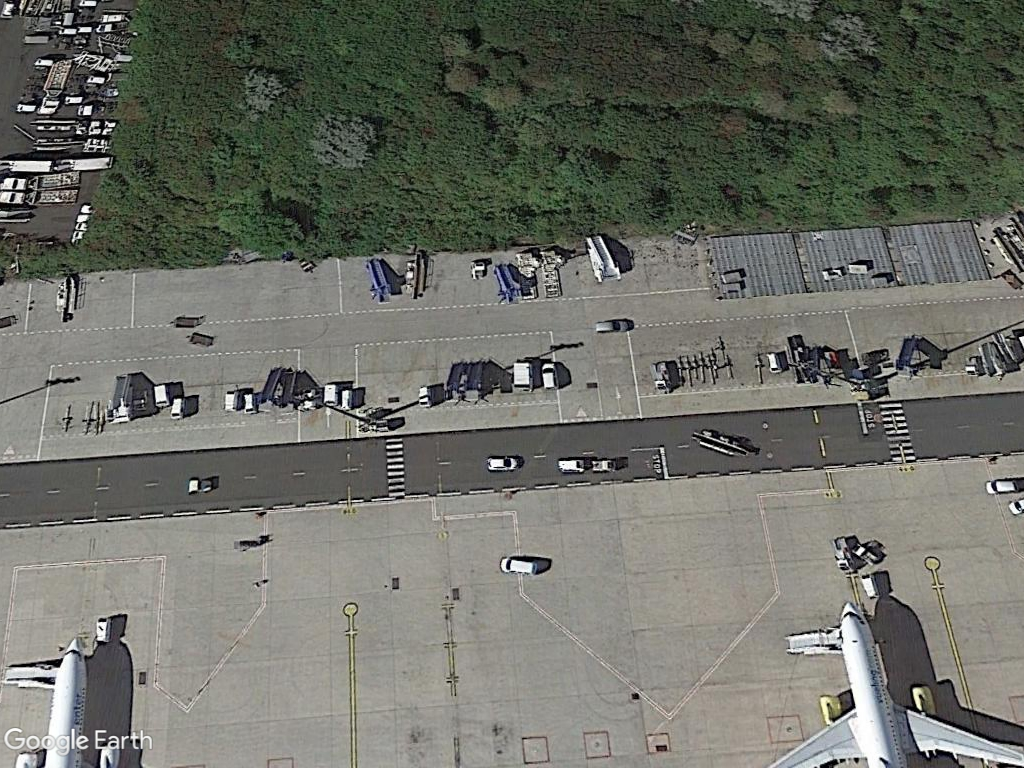car: (592, 317, 637, 333), (540, 359, 560, 392), (484, 455, 522, 472)
stairtruck: (581, 233, 624, 284)
van: (497, 554, 540, 576)
